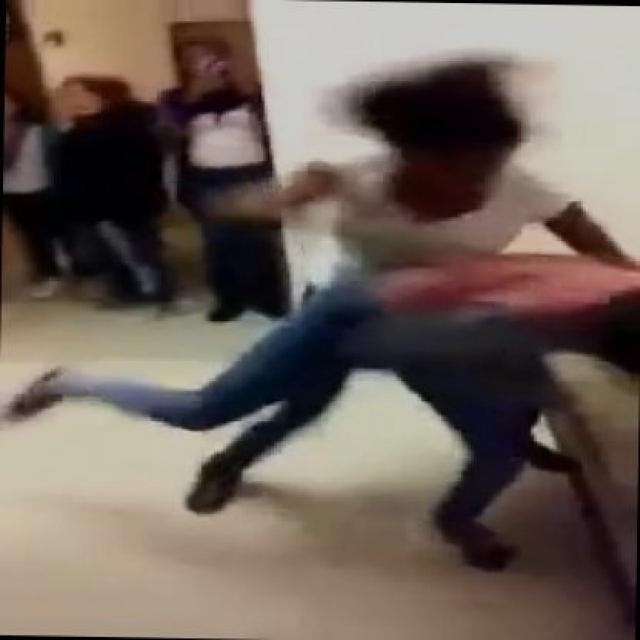fight: (12, 52, 637, 578)
